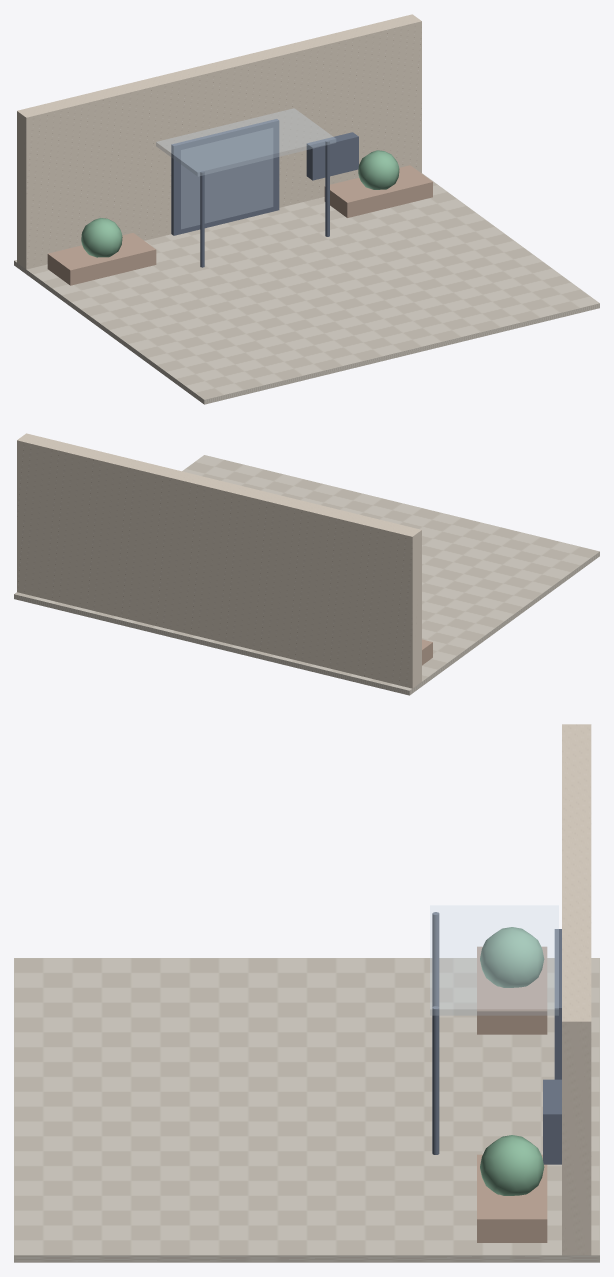
The model's file is ch5_env_apartment_courtyard_morning.glb.
The picture shows the model from 3 angles, top to bottom: view 1: azimuth 30°, elevation 25°; view 2: azimuth 150°, elevation 25°; view 3: azimuth 270°, elevation 25°; orthographic projection. The views are drawn at different scales.
Visible parts, largest first — view 1: ch5_env_apartment_courtyard_morning; view 2: ch5_env_apartment_courtyard_morning; view 3: ch5_env_apartment_courtyard_morning.
Part boxes in pixels (left/top/right/bottom): ch5_env_apartment_courtyard_morning: left=14, top=14, right=599, bottom=404; ch5_env_apartment_courtyard_morning: left=14, top=433, right=599, bottom=695; ch5_env_apartment_courtyard_morning: left=14, top=724, right=599, bottom=1262.
Bounding box in the file's own units: 12 × 4.54 × 10.
8 materials, 2 textured.
